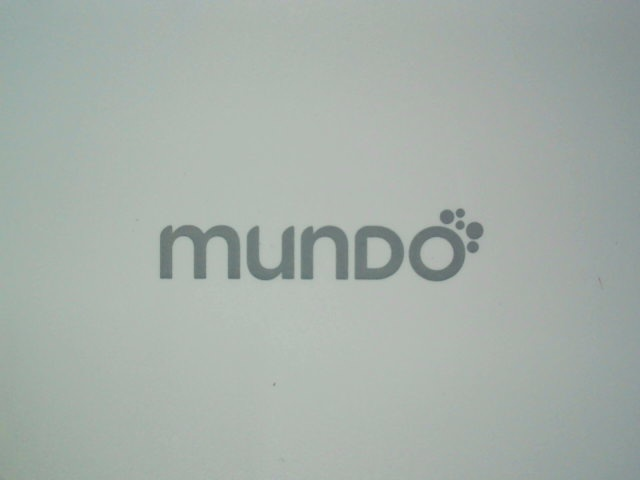BI_MUNDO: (144, 200, 495, 284)
